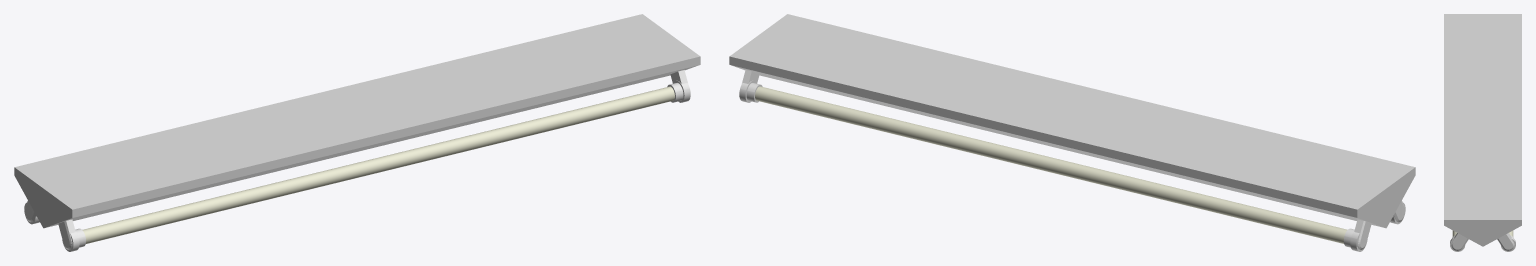
Rendered from FluorescentLight.fbx.
3 views of the same model, side by side, from view 1: azimuth 30°, elevation 25°; view 2: azimuth 150°, elevation 25°; view 3: azimuth 270°, elevation 25° (orthographic). The views are drawn at different scales.
Visible parts, largest first — view 1: group_6.002; view 2: group_6.002; view 3: group_6.002.
Boxes of the visible parts, x1,y1,x2,y2 form: group_6.002: (14, 14, 700, 251); group_6.002: (729, 14, 1415, 251); group_6.002: (1444, 14, 1521, 251).
Bounding box in the file's own units: 492 × 37.63 × 78.73.
